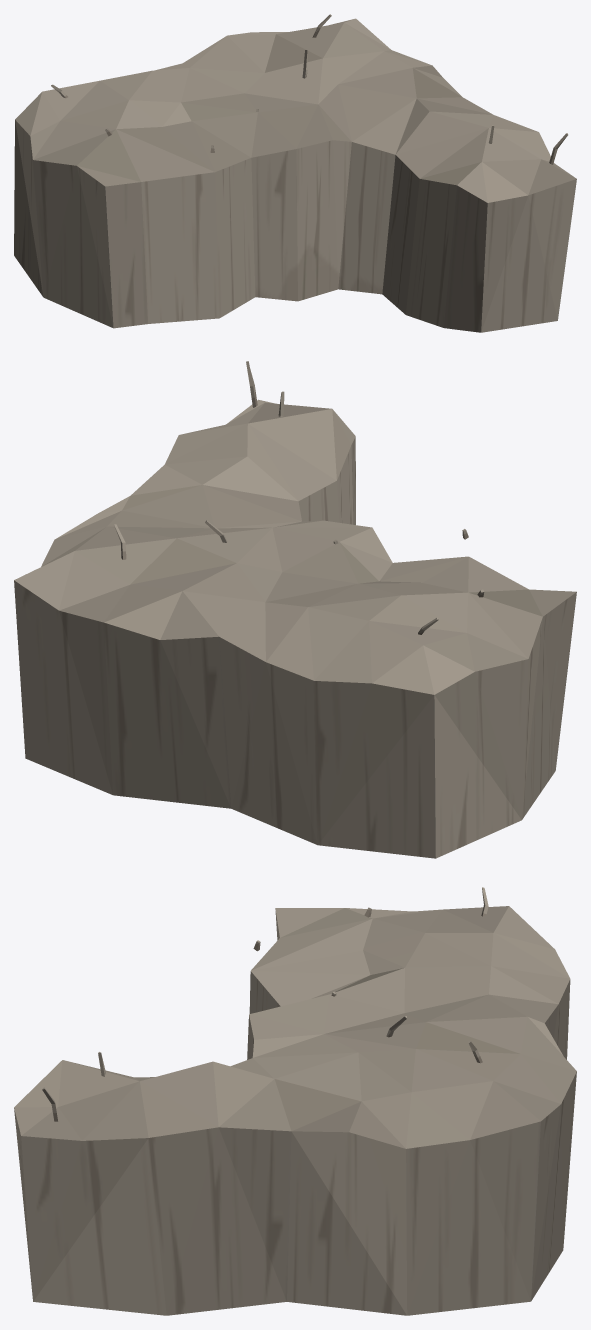
The model's file is ancient_SM_Env_Straw_Field_02.gltf.
3 renders of one model, top to bottom at view 1: azimuth 30°, elevation 25°; view 2: azimuth 150°, elevation 25°; view 3: azimuth 270°, elevation 25°, orthographic. The views are drawn at different scales.
Parts seen in each view (by area): view 1: SM_Env_Straw_Field_02; view 2: SM_Env_Straw_Field_02; view 3: SM_Env_Straw_Field_02.
Boxes of the visible parts, x1,y1,x2,y2 form: SM_Env_Straw_Field_02: (14,14,576,332); SM_Env_Straw_Field_02: (14,361,576,858); SM_Env_Straw_Field_02: (14,887,576,1315).
Size of the model in its own units: 5.68 by 2.56 by 5.66.
Materials: 1 (1 with a texture image).
